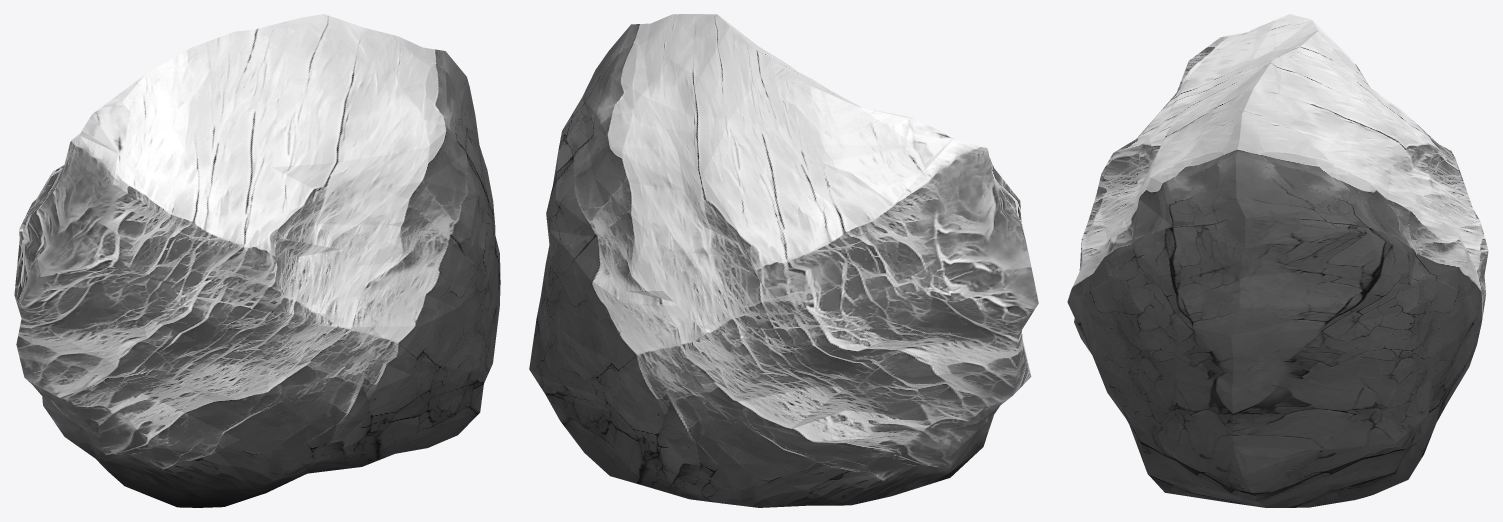
The picture shows the model from 3 angles, left to right: view 1: azimuth 30°, elevation 25°; view 2: azimuth 150°, elevation 25°; view 3: azimuth 270°, elevation 25°; orthographic projection. The views are drawn at different scales.
Parts seen in each view (by area): view 1: StoneC; view 2: StoneC; view 3: StoneC.
Boxes of the visible parts, bbox=[...] form: StoneC: bbox=[14, 14, 500, 507]; StoneC: bbox=[529, 14, 1038, 507]; StoneC: bbox=[1067, 14, 1488, 507].
Size of the model in its own units: 0.6736 by 0.6084 by 0.5362.
Materials: 1 (1 with a texture image).
